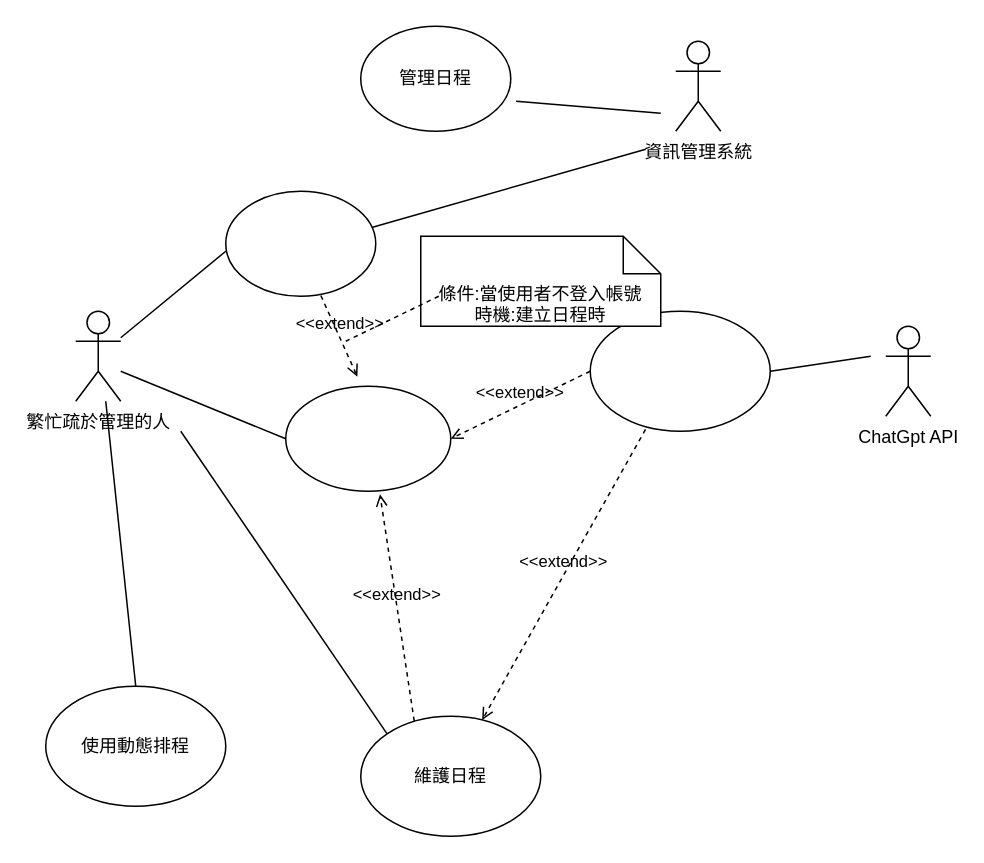
This 984x863 diagram has some shape labels left out. Here are the shapes that lost their labels. From the top down, the centre of each, then its label:
At point 300,243: "管理會員".
At point 679,370: "推薦日程".
At point 367,438: "建立日程".
